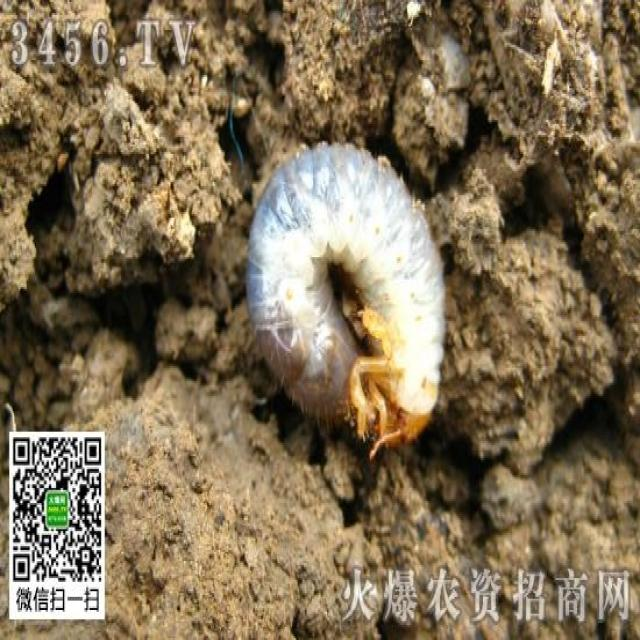grub: (247, 134, 445, 457)
